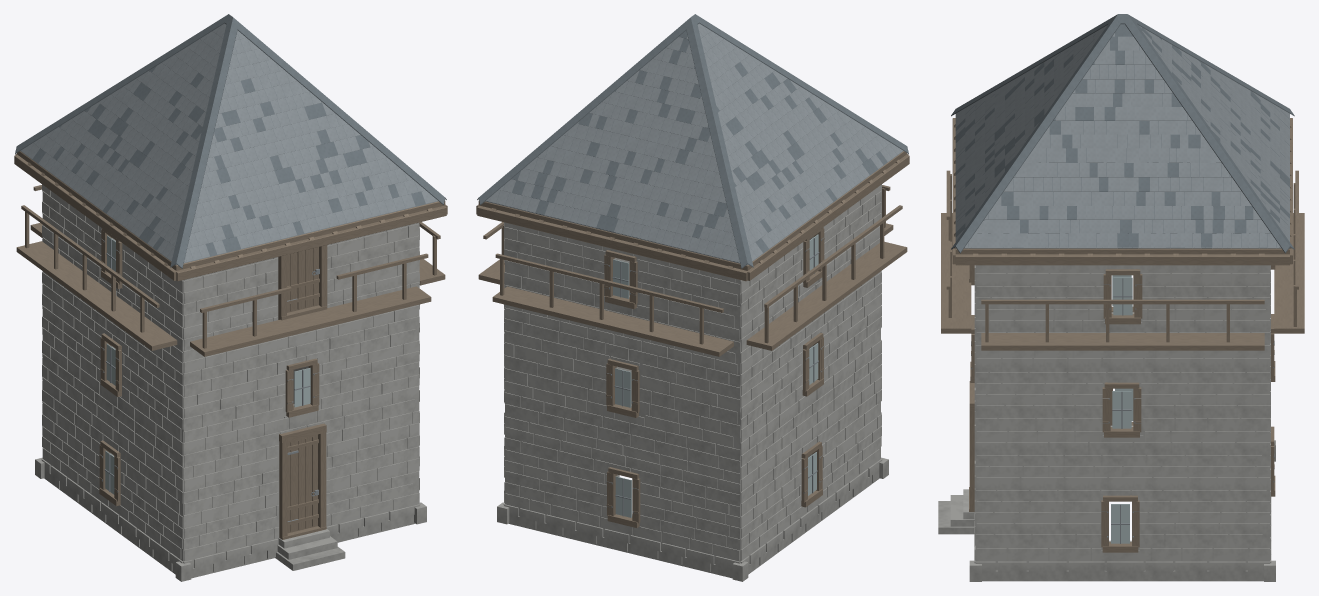
The model's file is installed_thornfell_watchtower.glb.
3 views of the same model, side by side, from view 1: azimuth 30°, elevation 25°; view 2: azimuth 150°, elevation 25°; view 3: azimuth 270°, elevation 25° (orthographic). The views are drawn at different scales.
Visible parts, largest first — view 1: facade_masonry_skin, Split oak shingle courses, facade_gallery_deck, Seasoned shingle cohorts, facade_walls, Exposed shingle butts, Overlapping ridge caps, facade_timber, facade_stone, Roof edge fascia, facade_doors, facade_gallery_rails (+8 smaller); view 2: facade_masonry_skin, Split oak shingle courses, facade_gallery_deck, facade_walls, Seasoned shingle cohorts, Overlapping ridge caps, facade_stone, Exposed shingle butts, Roof edge fascia, facade_gallery_rails, facade_timber, facade_shutters (+6 smaller); view 3: facade_masonry_skin, Split oak shingle courses, facade_walls, Seasoned shingle cohorts, facade_gallery_deck, Overlapping ridge caps, Exposed shingle butts, facade_stone, Roof edge fascia, facade_gallery_rails, facade_timber, Concealed roof course bedding (+6 smaller).
Boxes of the visible parts, x1,y1,x2,y2 form: facade_masonry_skin: (42,184,419,560); Split oak shingle courses: (21,23,437,264); facade_gallery_deck: (16,223,445,356); Seasoned shingle cohorts: (32,66,425,256); facade_walls: (48,204,418,560); Exposed shingle butts: (36,52,445,261); Overlapping ridge caps: (15,14,446,268); facade_timber: (99,228,327,539); facade_stone: (41,458,420,577); Roof edge fascia: (14,154,447,281); facade_doors: (287,247,319,533); facade_gallery_rails: (21,185,440,348); facade_masonry_skin: (504,184,881,560); Split oak shingle courses: (478,23,902,264); facade_gallery_deck: (478,223,907,356); facade_walls: (505,200,880,560); Seasoned shingle cohorts: (492,30,887,252); Overlapping ridge caps: (477,14,908,268); facade_stone: (503,458,882,577); Exposed shingle butts: (557,36,900,265); Roof edge fascia: (476,154,909,281); facade_gallery_rails: (483,185,902,344); facade_timber: (605,227,823,527); facade_shutters: (604,228,824,523); facade_masonry_skin: (974,265,1270,560); Split oak shingle courses: (955,25,1289,248); facade_walls: (975,265,1269,560); Seasoned shingle cohorts: (955,24,1289,248); facade_gallery_deck: (941,213,1304,350); Overlapping ridge caps: (951,14,1294,253); Exposed shingle butts: (955,26,1289,248); facade_stone: (974,497,1271,580); Roof edge fascia: (952,118,1292,265); facade_gallery_rails: (946,170,1298,342); facade_timber: (969,265,1275,552); Concealed roof course bedding: (956,30,1289,247).
Bounding box in the file's own units: 7.93 × 12.52 × 8.2.
Materials: 10 (8 with a texture image).
